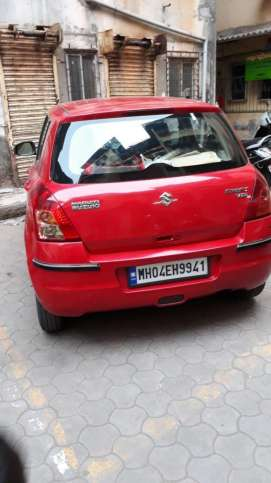license_plate: (127, 262, 213, 284)
